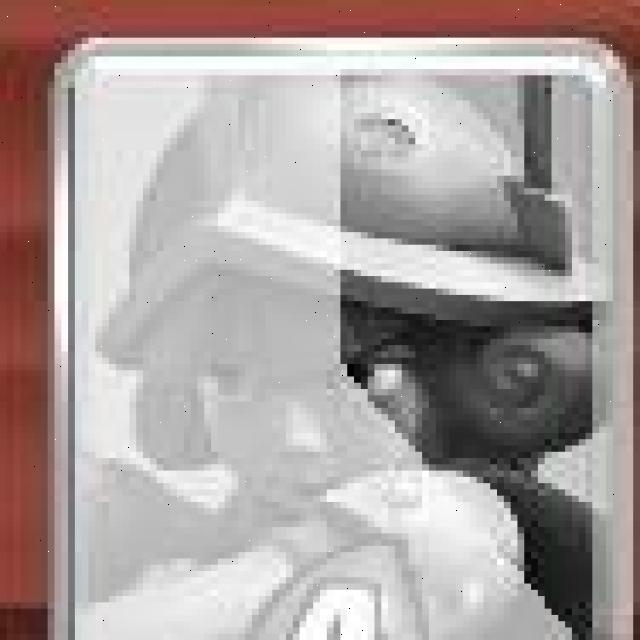Musketeer: (47, 46, 635, 640)
